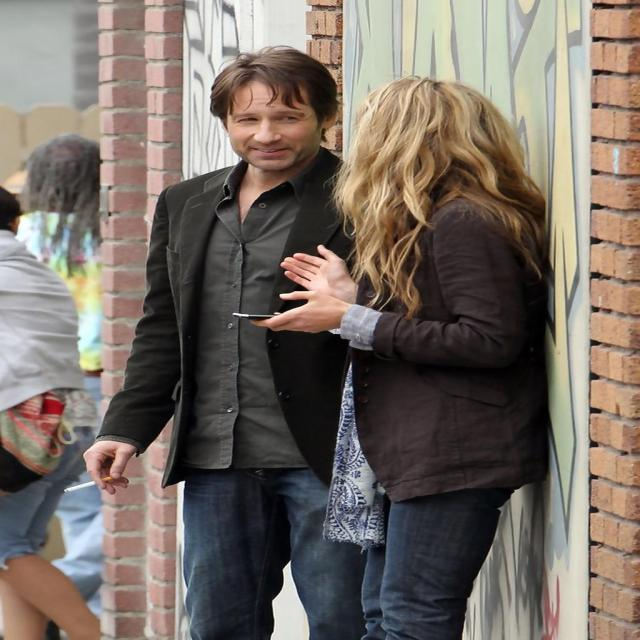smoking: (55, 40, 341, 513)
